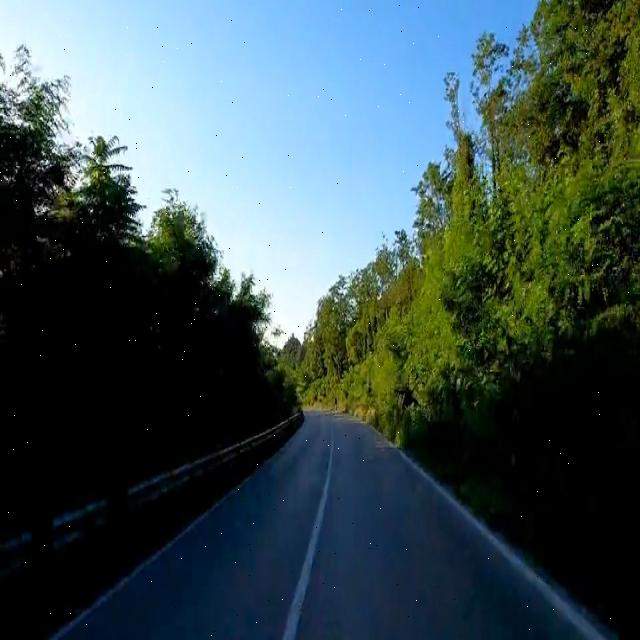lane: (283, 427, 333, 639)
road: (58, 412, 599, 638)
